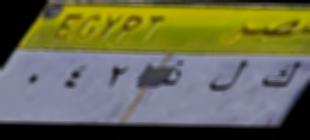0: (27, 70, 41, 86)
2: (105, 60, 132, 90)
4: (63, 61, 87, 96)
kaaf: (260, 54, 298, 95)
laam: (207, 55, 251, 95)
noon: (159, 52, 187, 90)
